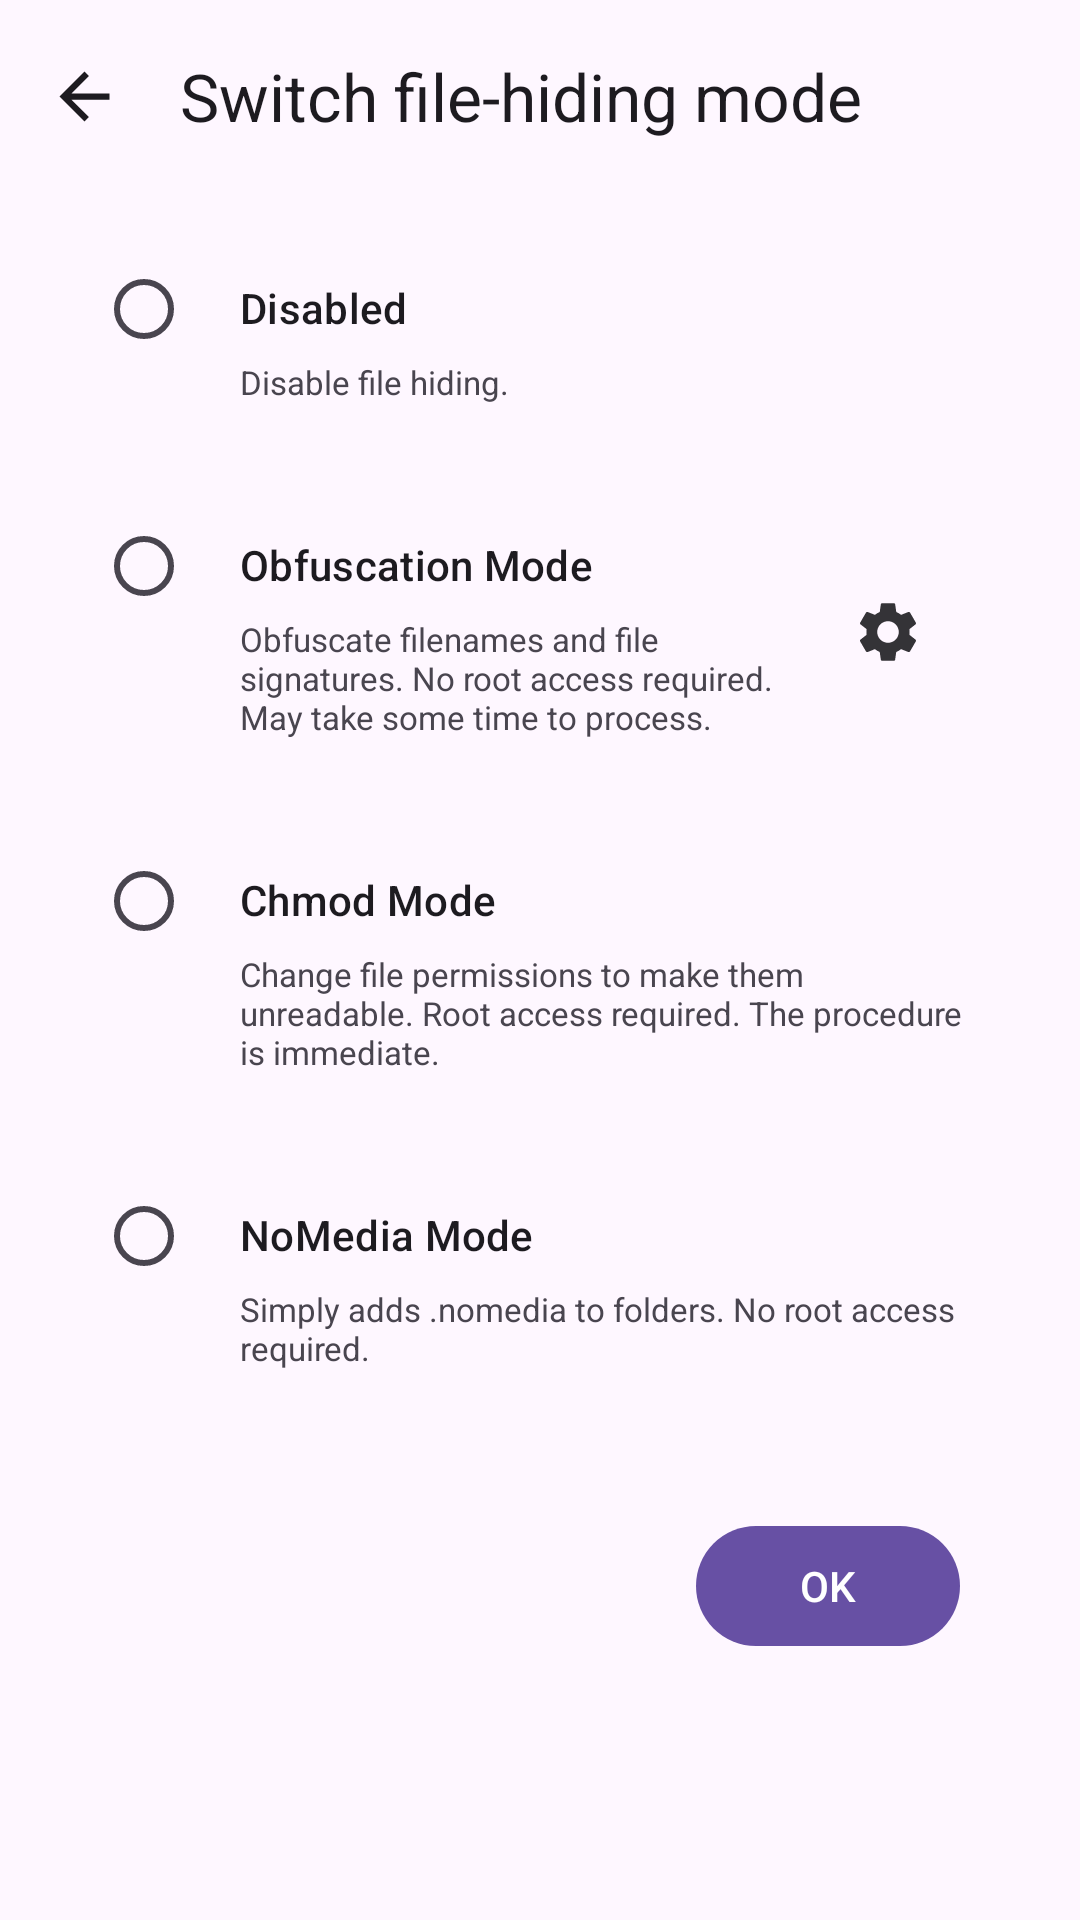

Icons on this 1080w x 1920h Android screen, each with its box as (x1, y1, x2, y2):
settings: (860, 603, 916, 661)
